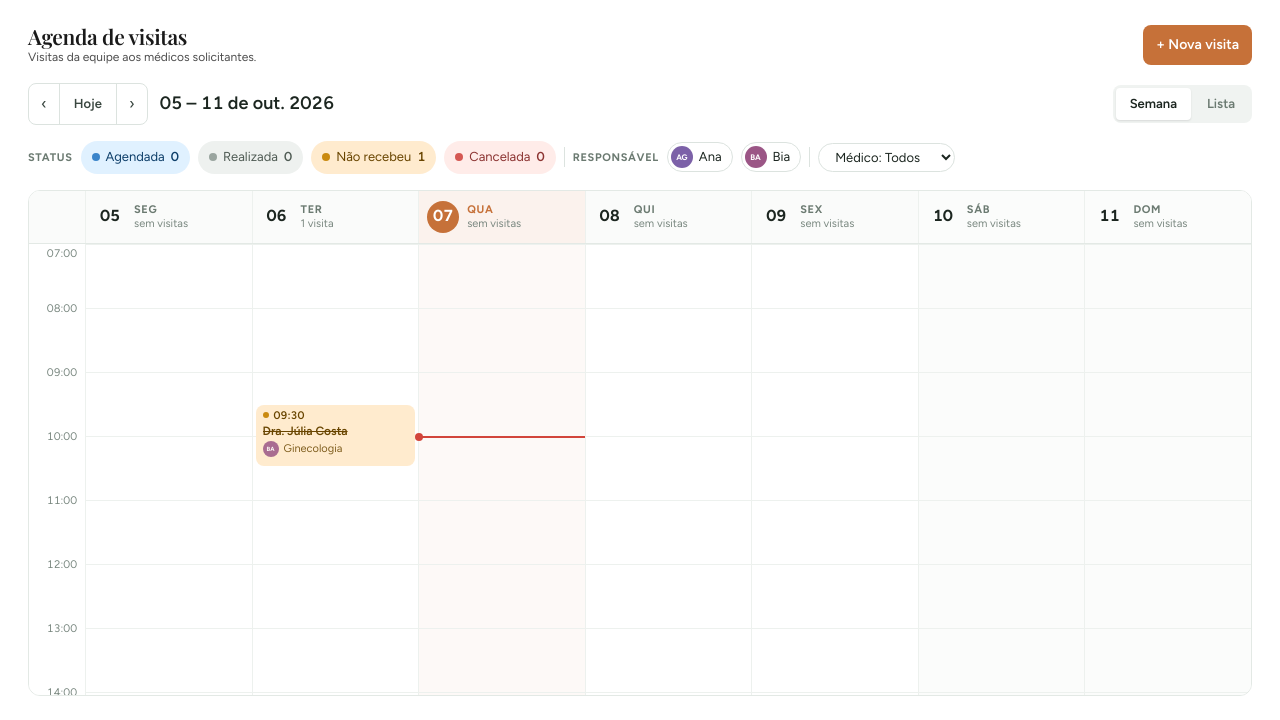
it: Agenda (/visitation/agenda) › visita encerrada abre só para leitura, com o motivo
The width and height of the screenshot is (1280, 720).
Click the button with aria-label "Médico não recebeu": (335, 435) [256,404,415,466]
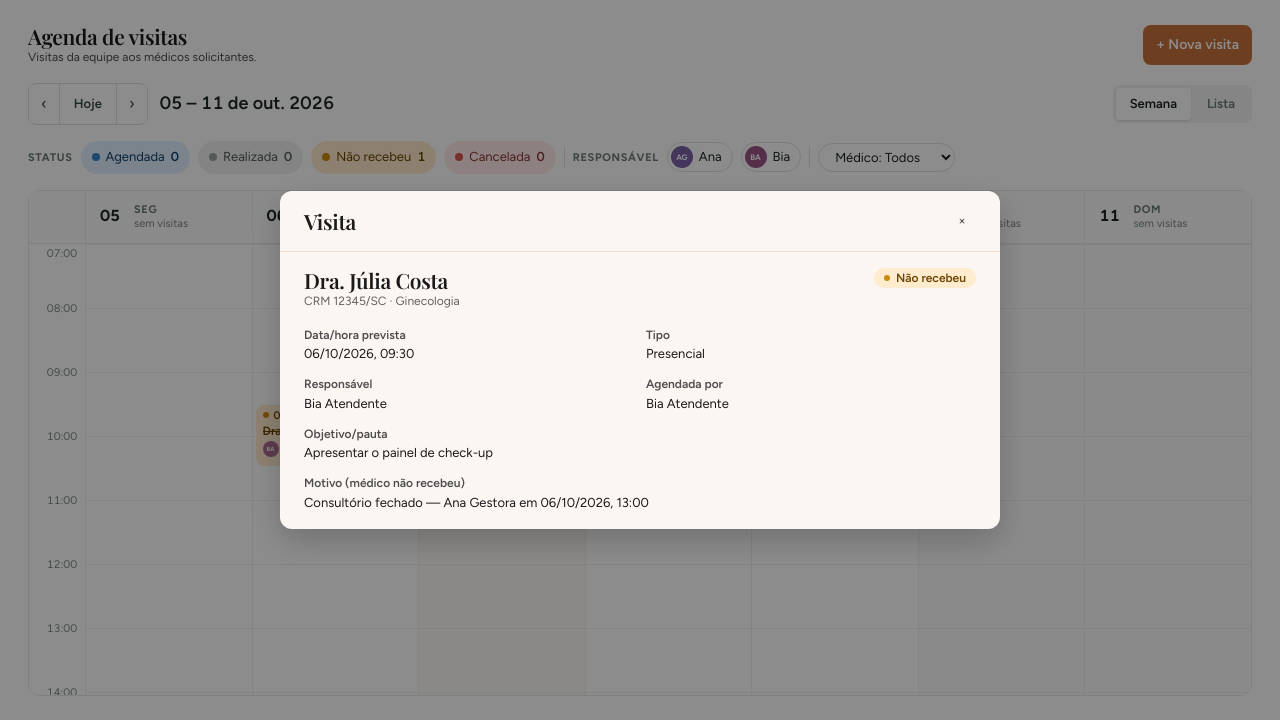
Expected: the text "Consultório fechado — Ana Gestora em 06/10/2026, 13:00" is shown, [304,495,649,510]
